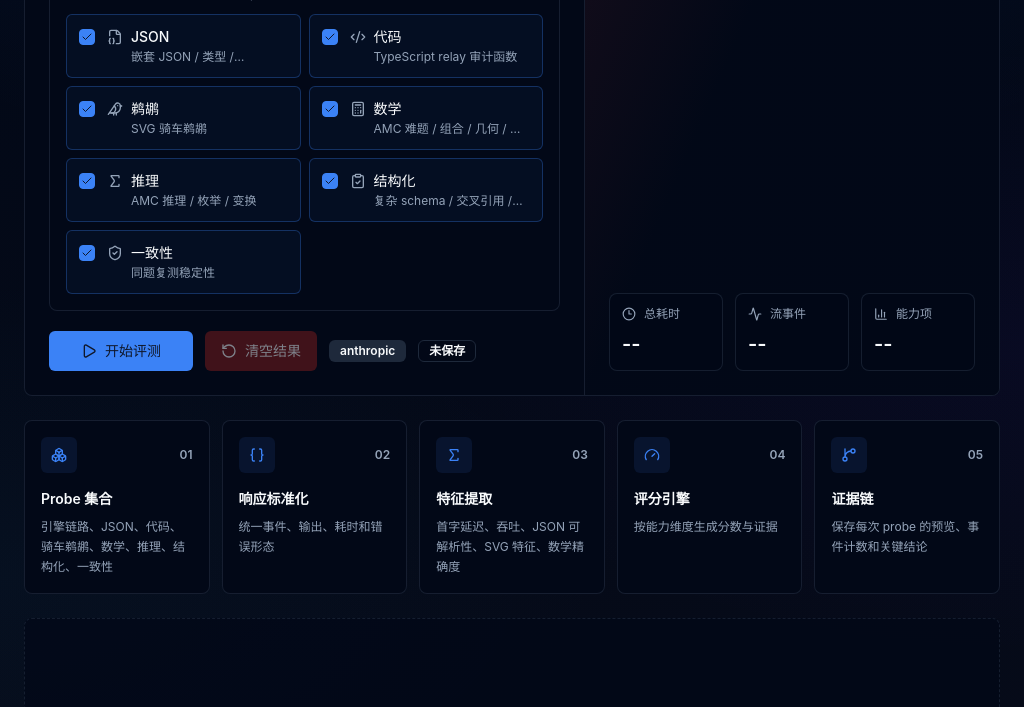
Test: ModelDiagnosticsWorkbench › stops active diagnostics and exposes continue action
(page scrolled)
Click the button "开始评测" at (121, 351), box [49,331,193,371]
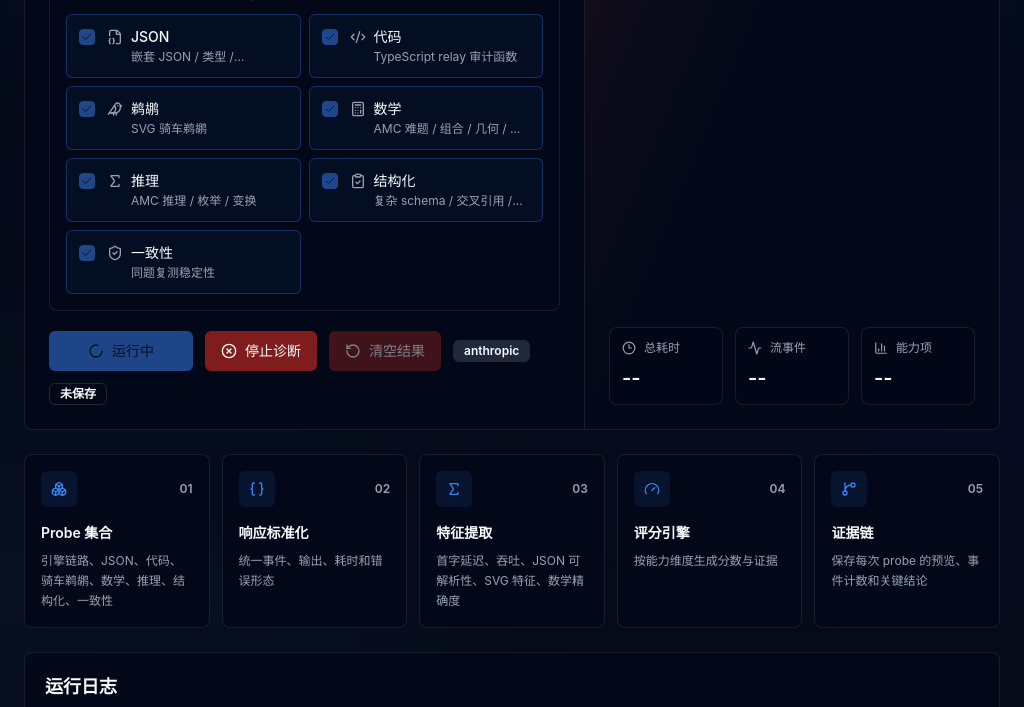
Check: the button "停止诊断" is shown
Click the button "停止诊断" at (261, 351), box [205,331,317,371]
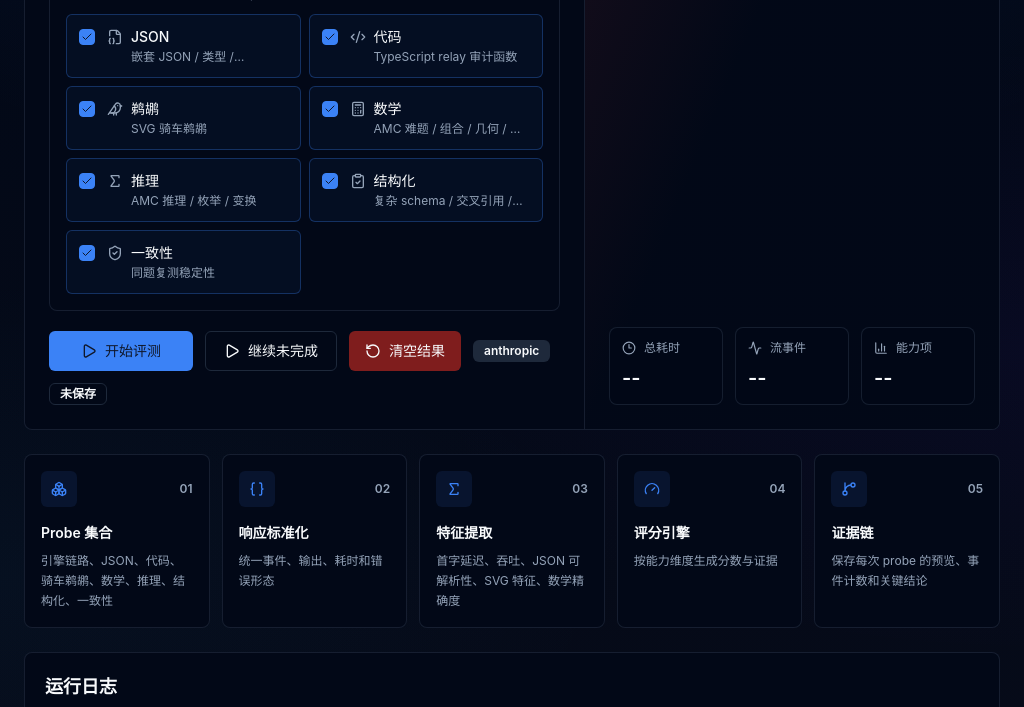
Check: the button "继续未完成" is shown, box [205,331,337,371]
